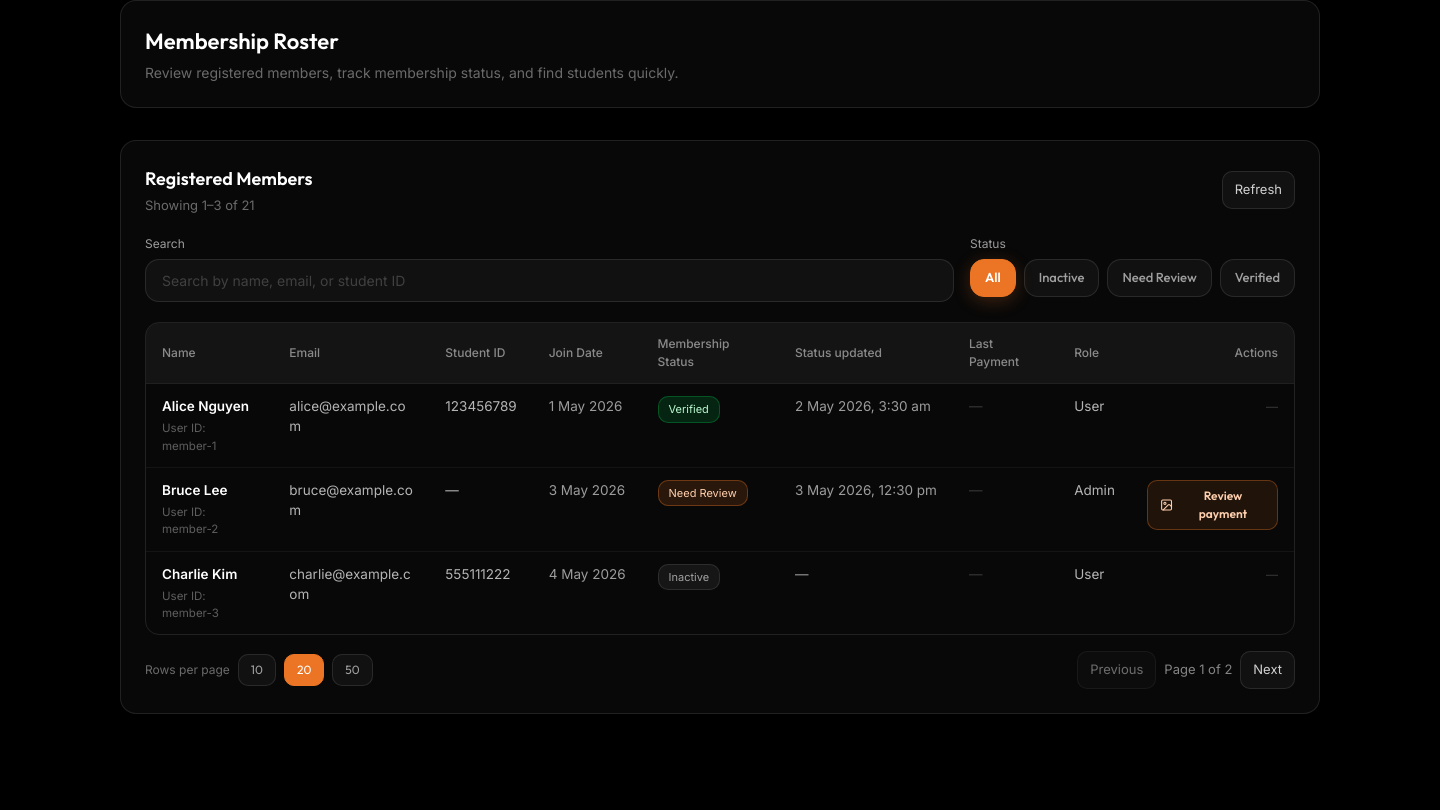
Test: Admin membership roster › clicking Next and Previous fetches adjacent pages
(page scrolled)
Expected: the text "Alice Nguyen" is shown, [162, 396, 257, 416]
Click the button "Next" at (1268, 670), box [1240, 651, 1295, 689]
(page scrolled)
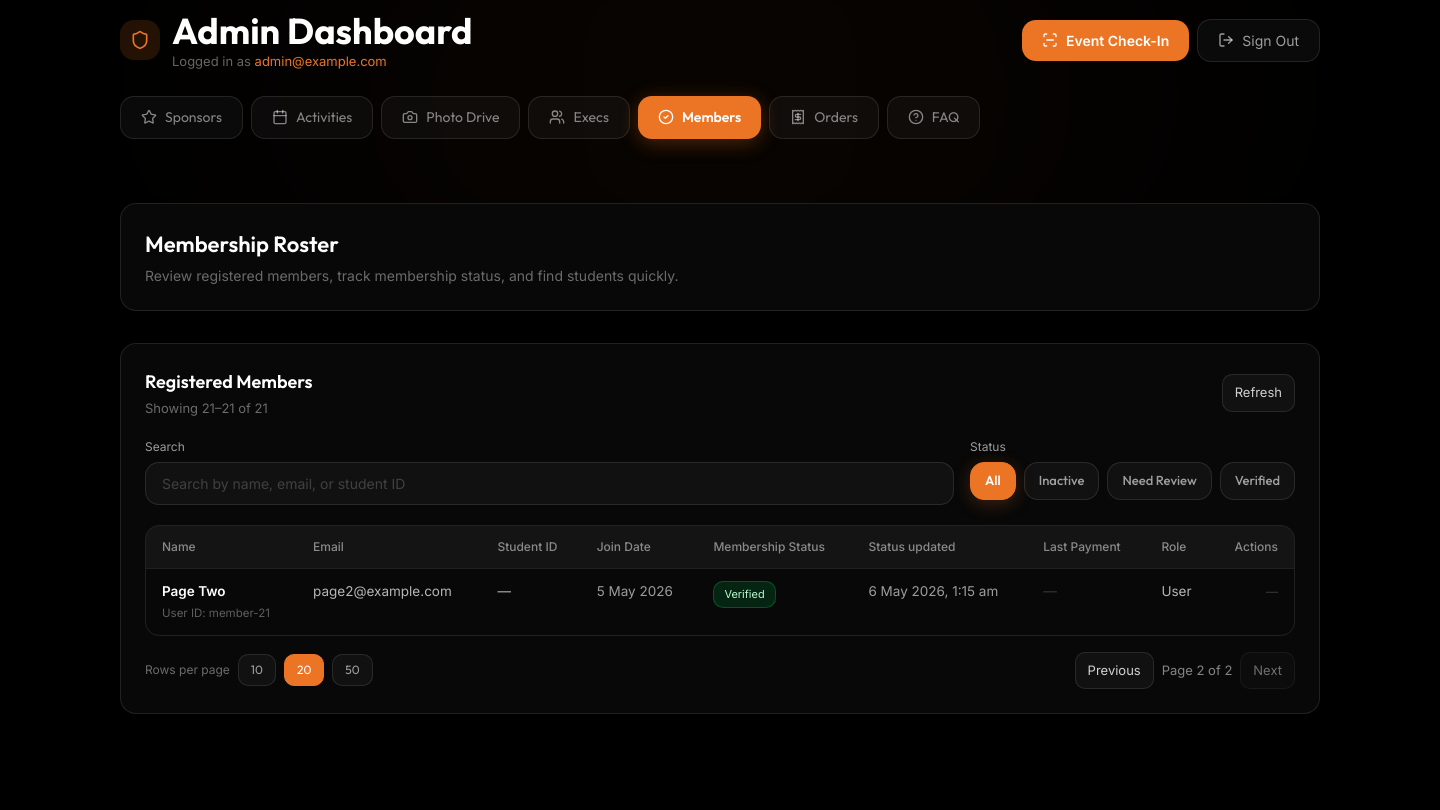
Result: the text "Page Two" is shown at [162, 583, 226, 599]
Click the button "Previous" at (1114, 670), box [1075, 652, 1154, 689]
(page scrolled)
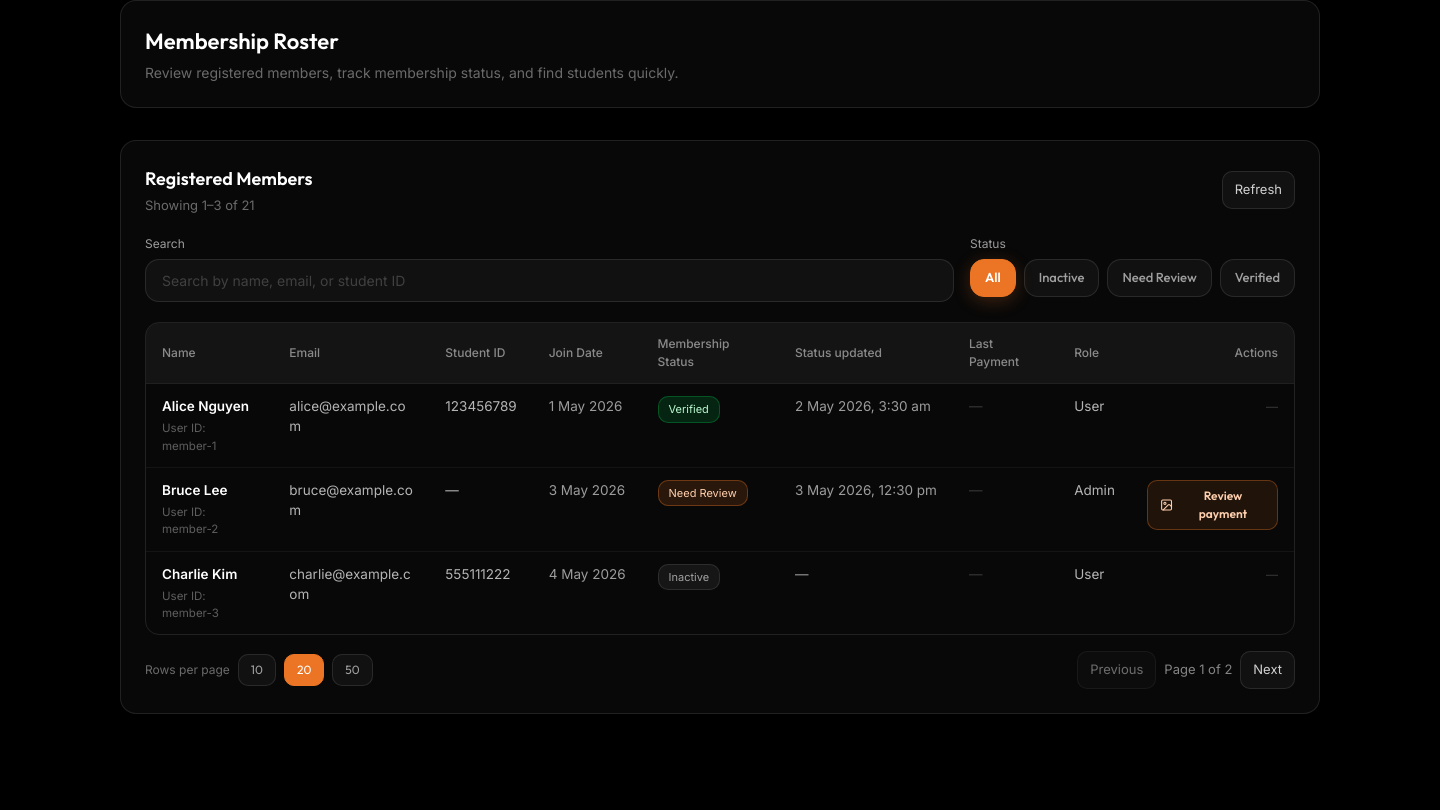
Result: the text "Alice Nguyen" is shown at [162, 396, 257, 416]
